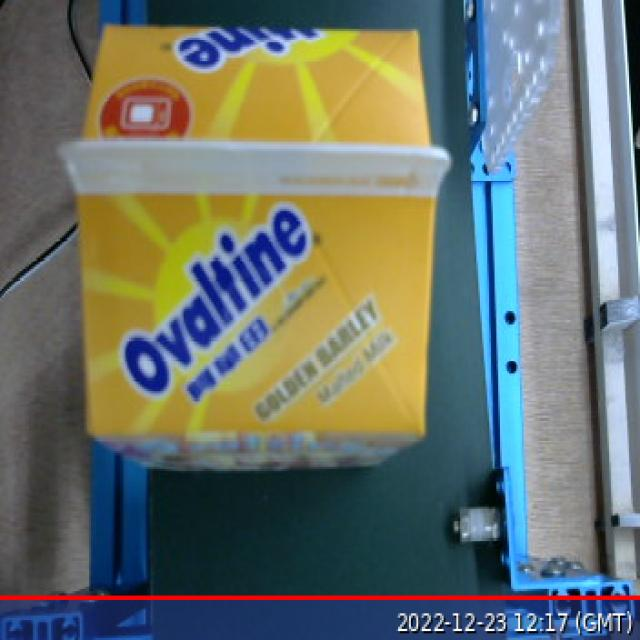non_white_jug: (46, 11, 460, 479)
